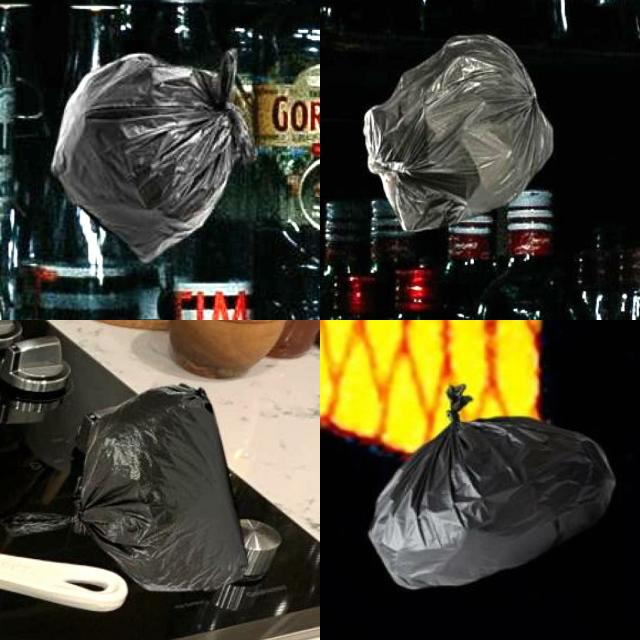Single-layer Plastic: (0, 385, 251, 592), (369, 385, 615, 589), (51, 49, 252, 262), (364, 35, 552, 231)
